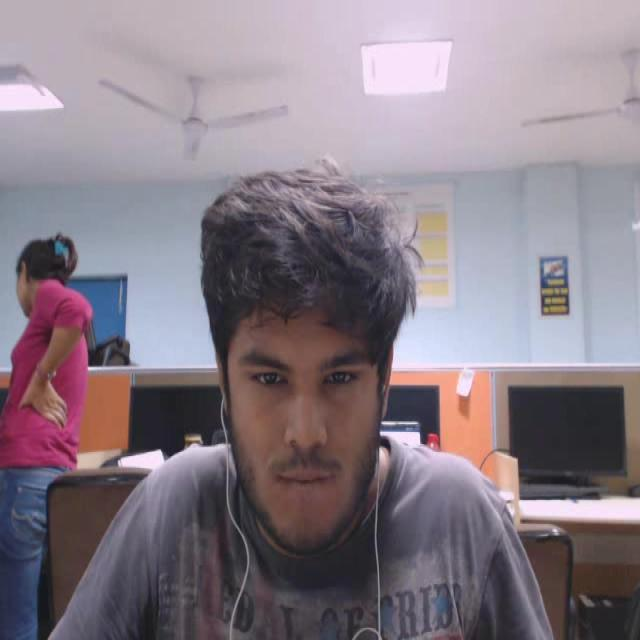Engaged: (155, 147, 454, 592)
